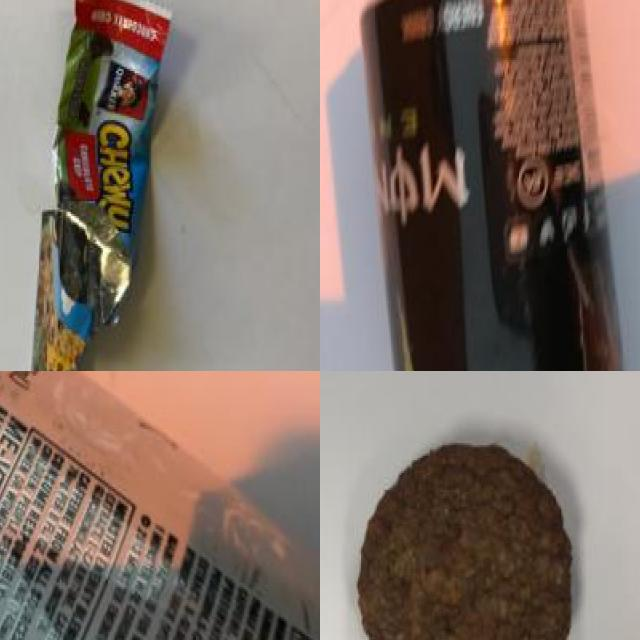compost: (334, 411, 596, 640)
plastic: (360, 0, 640, 371), (0, 371, 320, 640)
trash: (25, 0, 191, 371)
